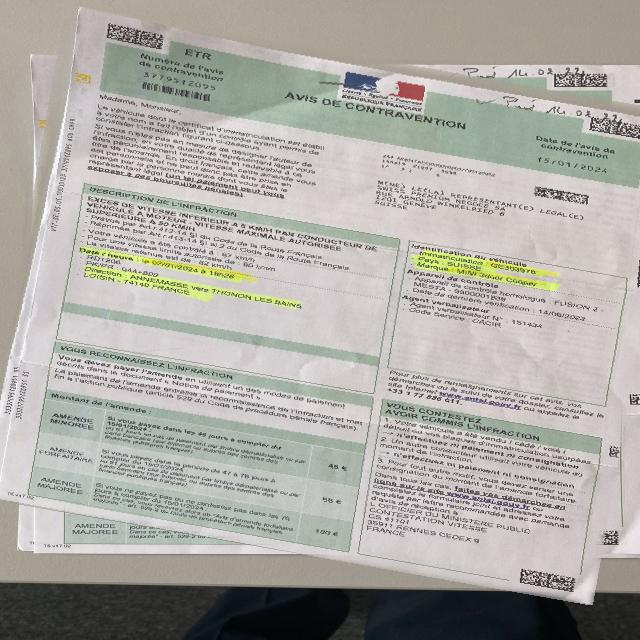paper-document-: (0, 6, 640, 605)
